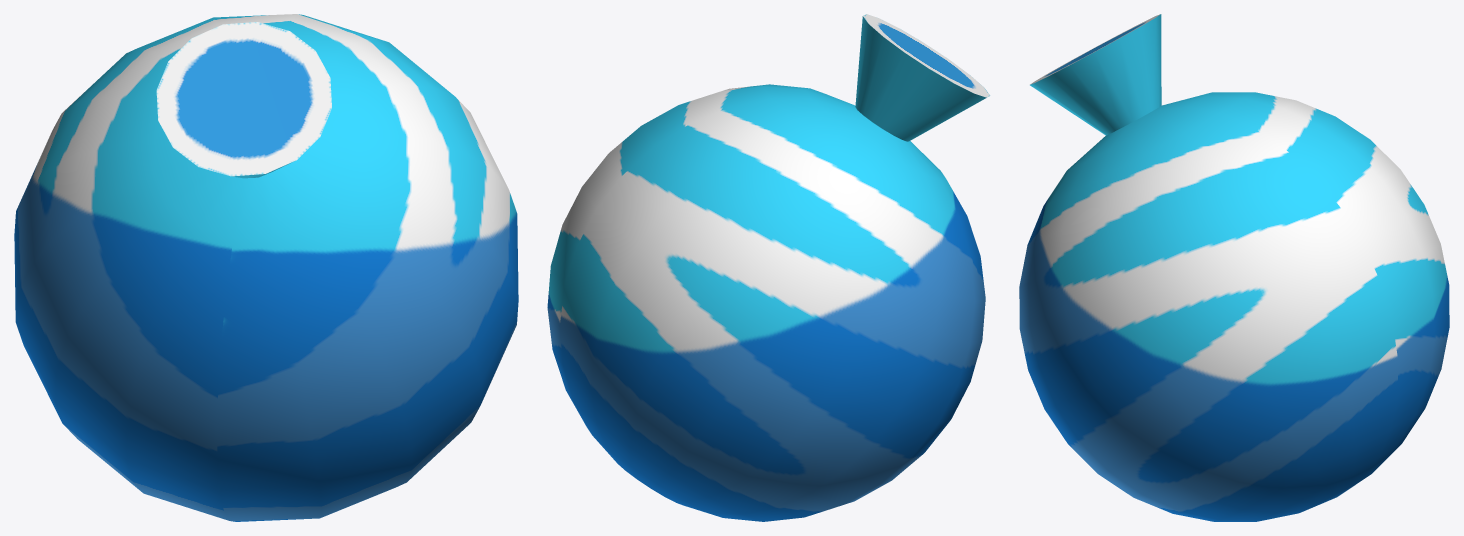
File: Balloon_12.fbx
3 renders of one model, left to right at view 1: azimuth 30°, elevation 25°; view 2: azimuth 150°, elevation 25°; view 3: azimuth 270°, elevation 25°, orthographic. The views are drawn at different scales.
Visible parts, largest first — view 1: Balloon_12; view 2: Balloon_12; view 3: Balloon_12.
Boxes of the visible parts, bbox=[...] form: Balloon_12: bbox=[14, 14, 518, 521]; Balloon_12: bbox=[547, 14, 990, 521]; Balloon_12: bbox=[1019, 14, 1449, 521].
Bounding box in the file's own units: 98.89 × 115 × 99.48.
Materials: 1 (1 with a texture image).
